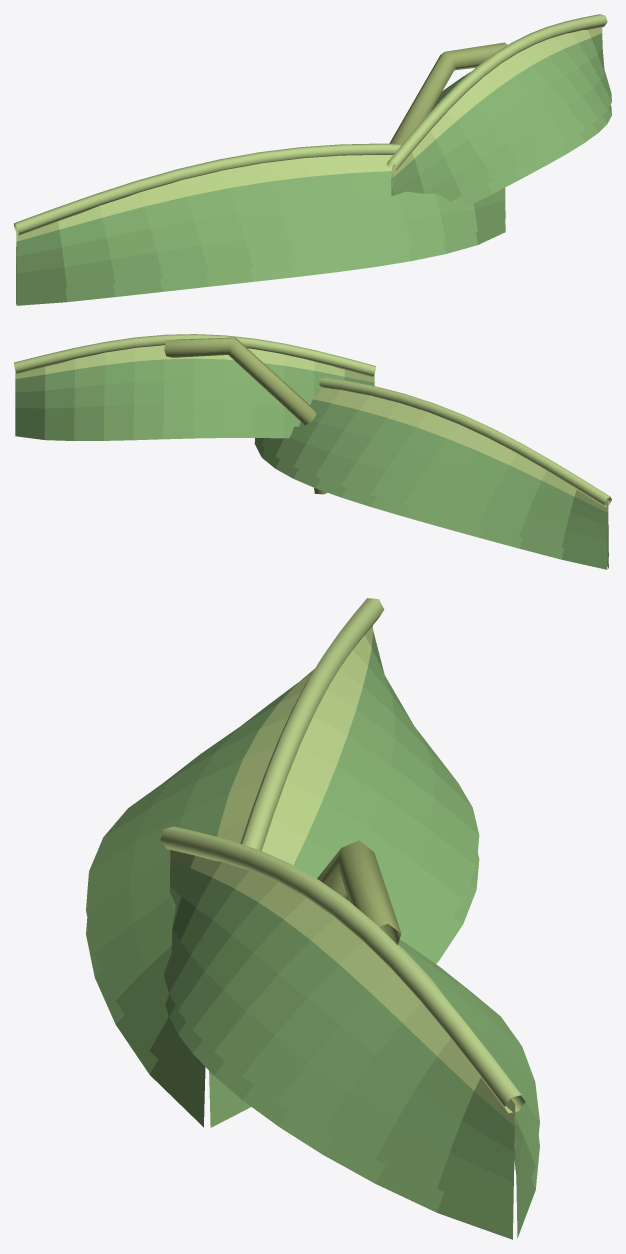
File: mdl_env_lily_cluster.glb
3 renders of one model, top to bottom at view 1: azimuth 30°, elevation 25°; view 2: azimuth 150°, elevation 25°; view 3: azimuth 270°, elevation 25°, orthographic. The views are drawn at different scales.
Parts seen in each view (by area): view 1: Lily cluster leaf 00, Lily cluster leaf 01, Lily cluster leaf 00 | central vein, Lily cluster leaf 01 | central vein, Lily cluster | new shoot; view 2: Lily cluster leaf 00, Lily cluster leaf 01, Lily cluster leaf 01 | central vein, Lily cluster leaf 00 | central vein, Lily cluster | new shoot; view 3: Lily cluster leaf 01, Lily cluster leaf 00, Lily cluster leaf 01 | central vein, Lily cluster leaf 00 | central vein, Lily cluster | new shoot.
Part boxes in pixels (left/top/right/bottom): Lily cluster leaf 00: left=16, top=155, right=505, bottom=305; Lily cluster leaf 01: left=391, top=27, right=611, bottom=207; Lily cluster leaf 00 | central vein: left=14, top=143, right=401, bottom=235; Lily cluster leaf 01 | central vein: left=386, top=14, right=607, bottom=171; Lily cluster | new shoot: left=389, top=42, right=507, bottom=143; Lily cluster leaf 00: left=254, top=387, right=608, bottom=569; Lily cluster leaf 01: left=15, top=345, right=374, bottom=440; Lily cluster leaf 01 | central vein: left=14, top=334, right=375, bottom=377; Lily cluster leaf 00 | central vein: left=319, top=377, right=611, bottom=506; Lily cluster | new shoot: left=164, top=337, right=327, bottom=494; Lily cluster leaf 01: left=164, top=850, right=539, bottom=1239; Lily cluster leaf 00: left=86, top=625, right=479, bottom=1127; Lily cluster leaf 01 | central vein: left=160, top=826, right=525, bottom=1113; Lily cluster leaf 00 | central vein: left=240, top=598, right=384, bottom=850; Lily cluster | new shoot: left=317, top=840, right=401, bottom=944.
Bounding box in the file's own units: 1.96 × 0.4919 × 0.6856.
